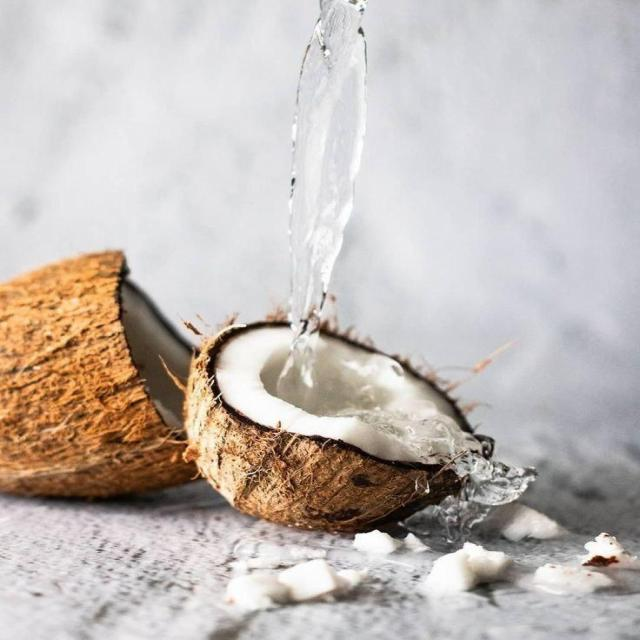coconut: (182, 308, 494, 530), (4, 252, 184, 498)
